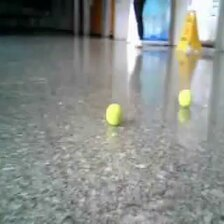tennis: (105, 103, 121, 126), (177, 89, 193, 108)
